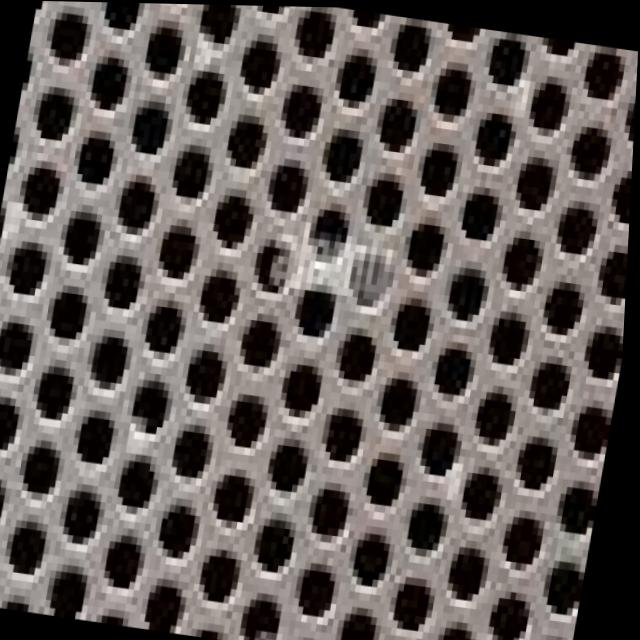metal-plates: (1, 2, 639, 640)
